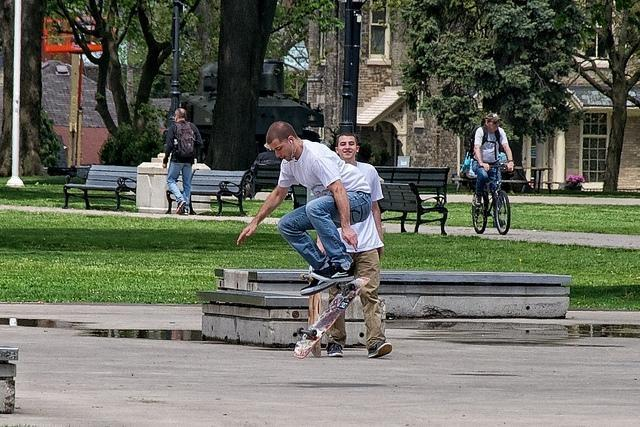bicycle: (470, 159, 510, 236)
